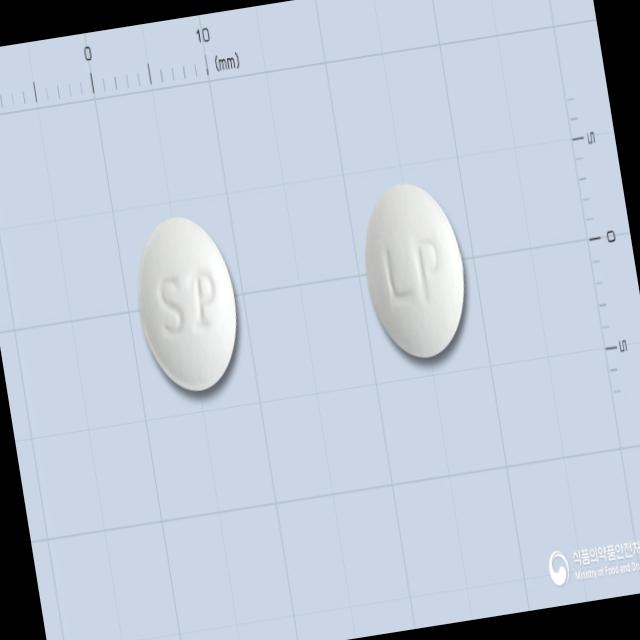Lefocin: (125, 208, 249, 398), (354, 176, 478, 364)
